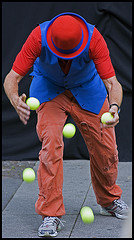tennis ball: (79, 205, 96, 225), (21, 166, 37, 184), (62, 122, 77, 140), (25, 96, 42, 111), (100, 111, 116, 126)
